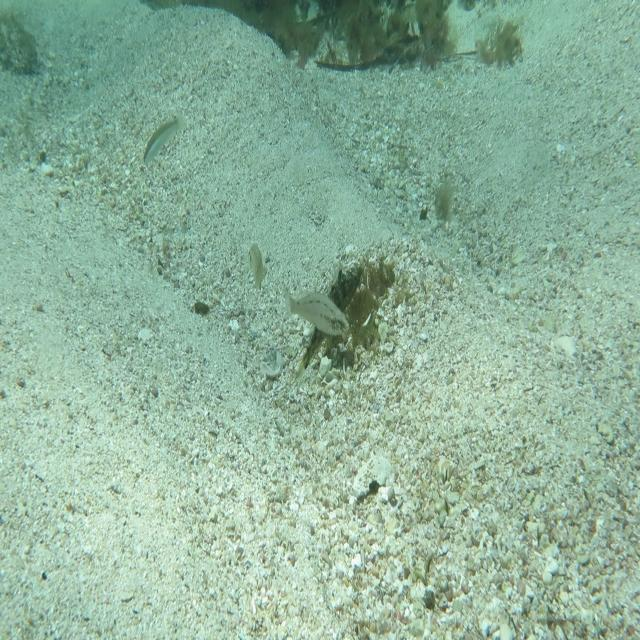Coris_julis_female: (140, 113, 186, 168)
ROLL: (292, 254, 368, 386)
female: (282, 269, 351, 340)
nest: (304, 249, 402, 364)
other_fish: (240, 240, 271, 296)
